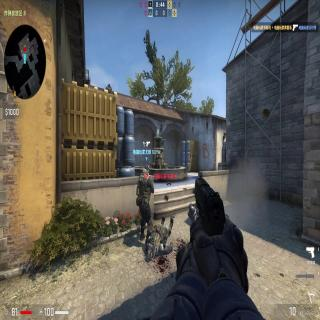CT-Body: (136, 165, 154, 241)
CT-Head: (143, 164, 150, 173)
